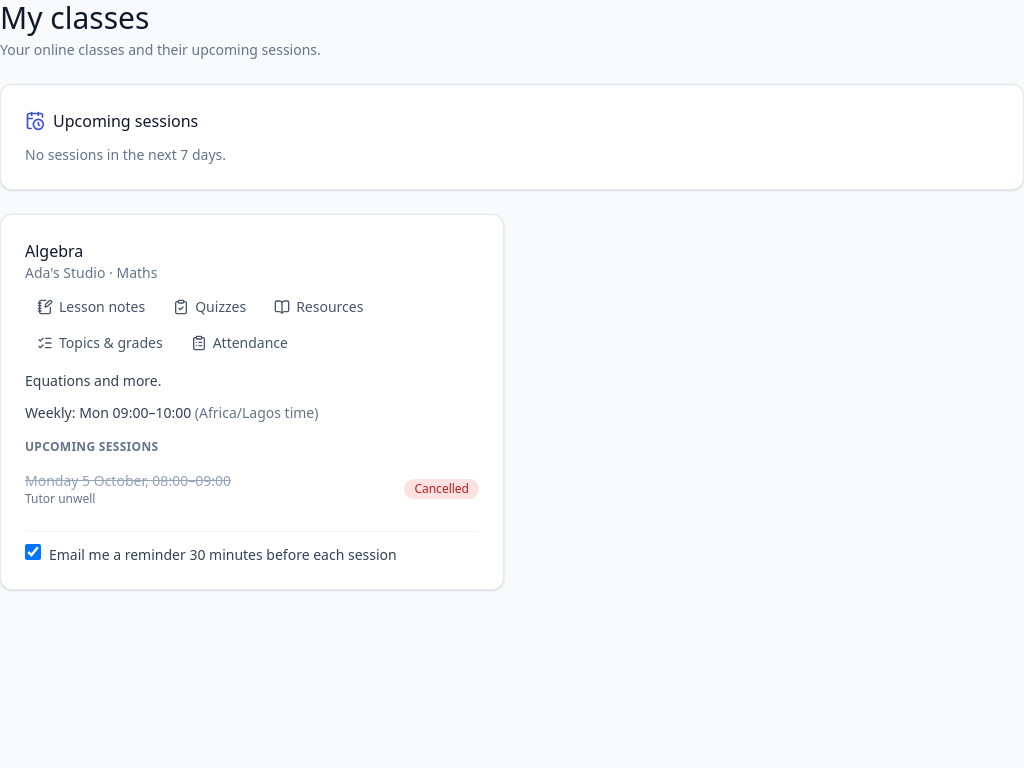
online classes views › shows a learner their attendance history in a class
This screenshot has width=1024, height=768.
Click the button "Attendance": (239, 343) x1=179 y1=327 x2=300 y2=359
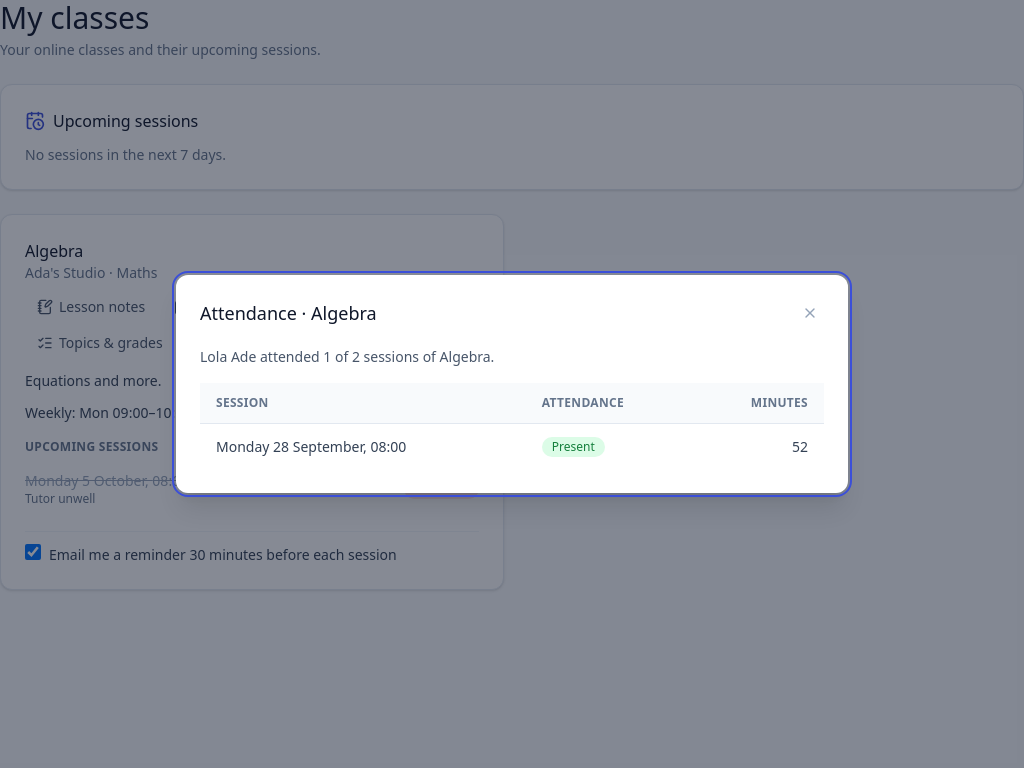
Now the text "Lola Ade attended 1 of 2 sessions of Algebra." is shown, box x1=200 y1=347 x2=494 y2=366
Now the text "Present" is shown, box x1=542 y1=437 x2=605 y2=457
Now the text "52" is shown, box x1=693 y1=424 x2=824 y2=469
